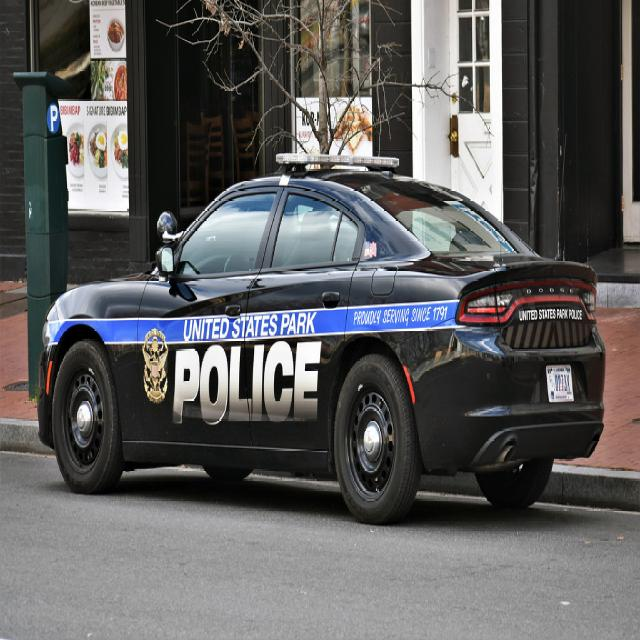cop: (31, 146, 640, 531)
